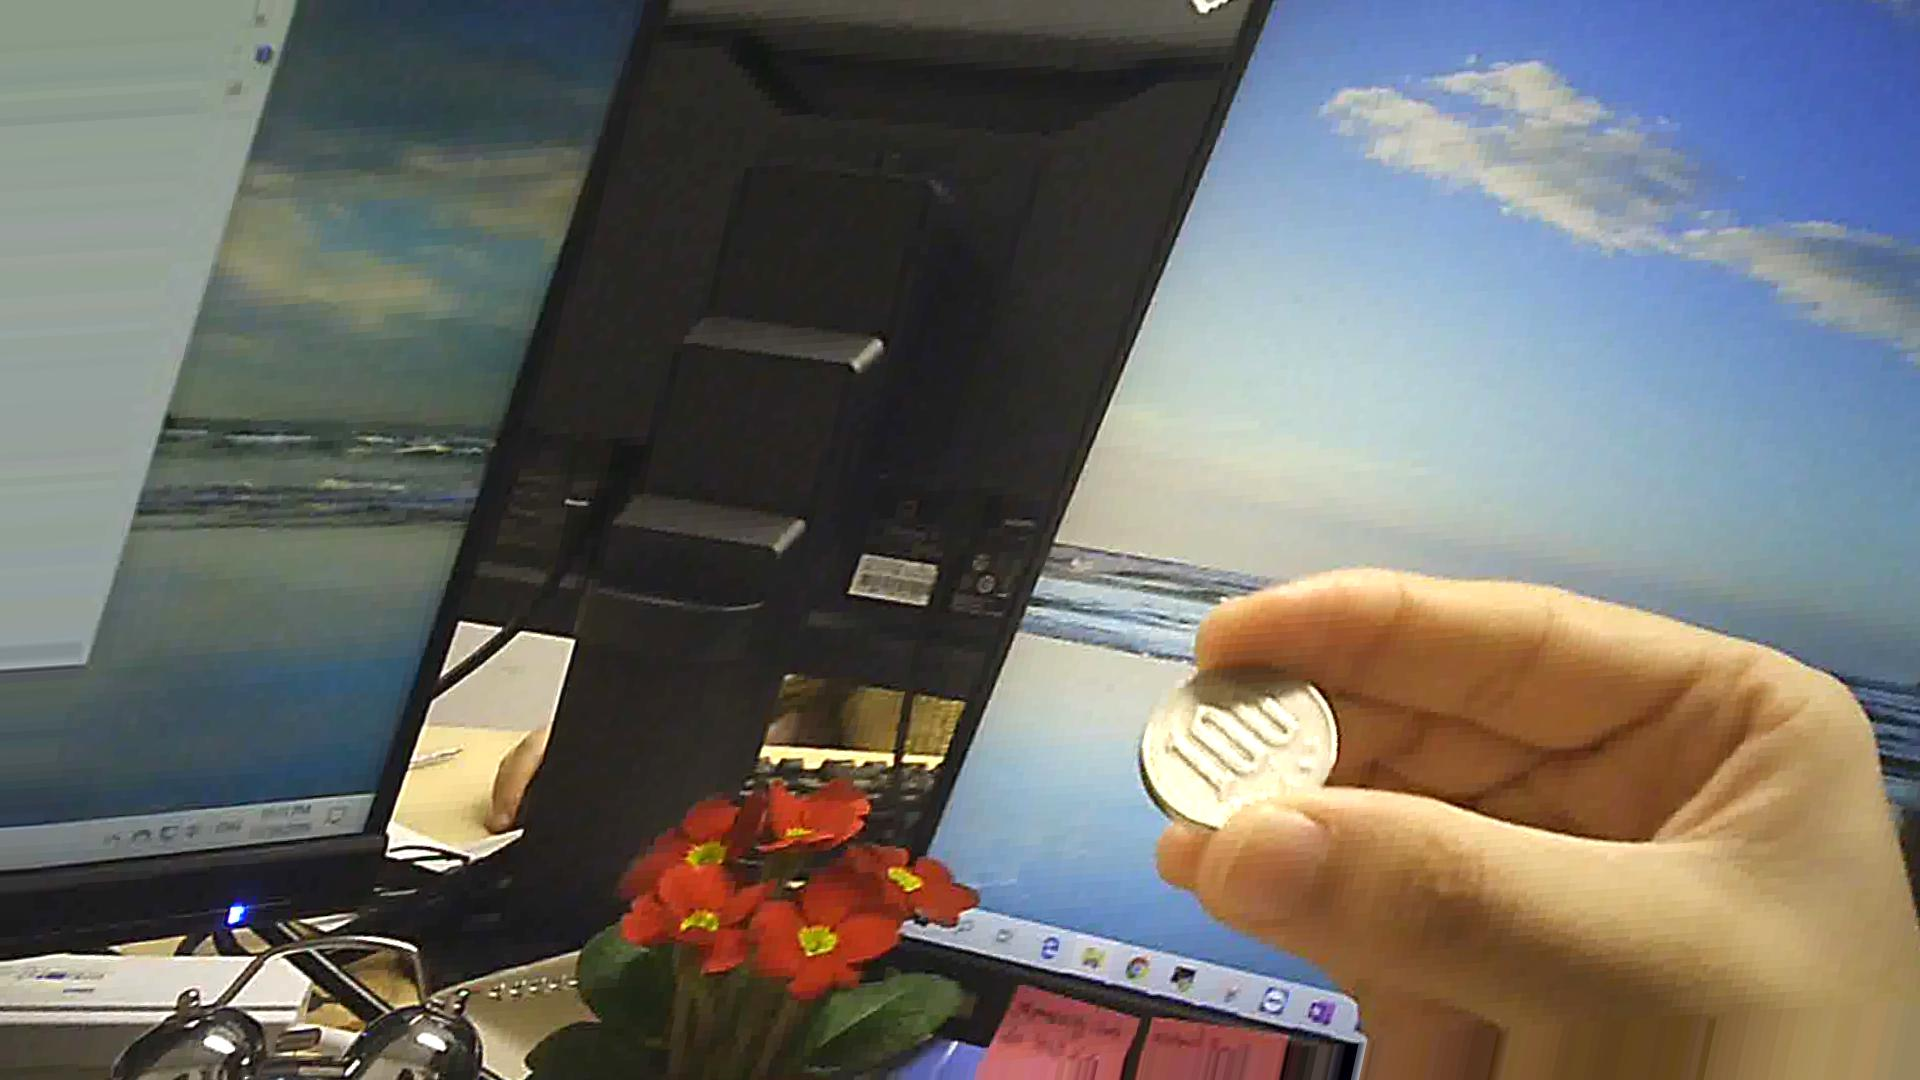100 Yen: (1131, 638, 1358, 848)
